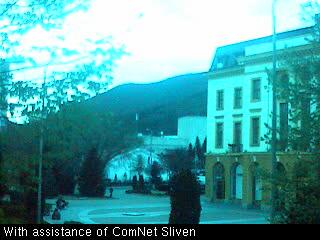person: (109, 185, 114, 198)
